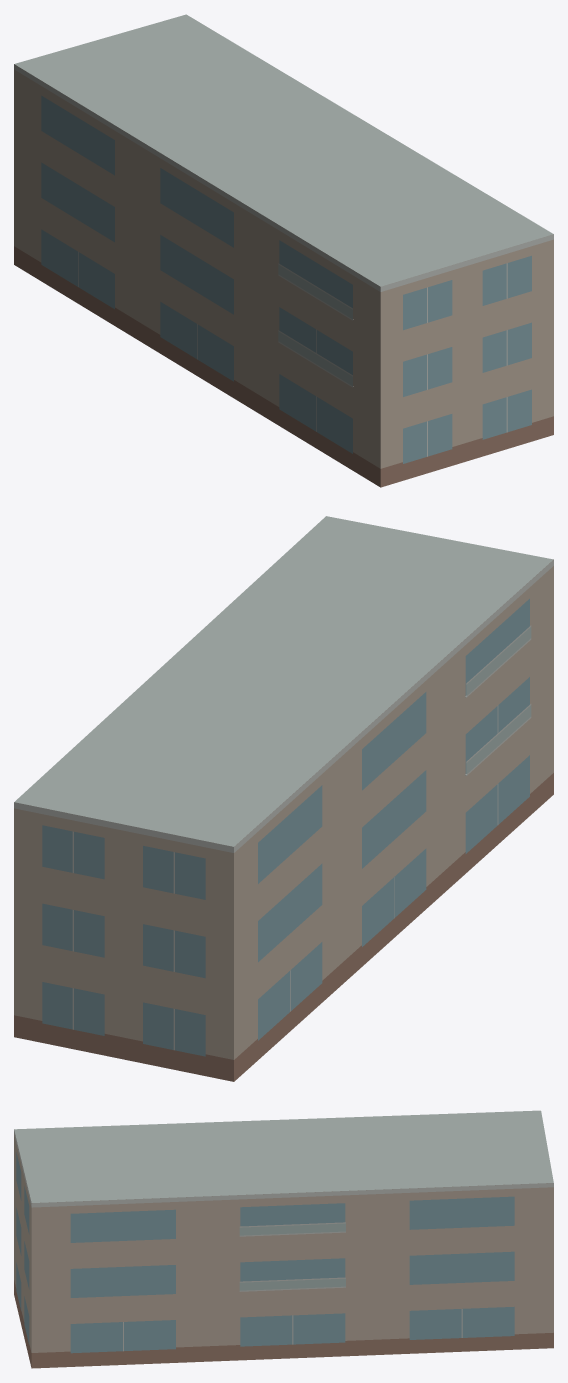
File: survey-upis-32666436.glb
3 views of the same model, one above another, from view 1: azimuth 30°, elevation 25°; view 2: azimuth 150°, elevation 25°; view 3: azimuth 270°, elevation 25° (orthographic). The views are drawn at different scales.
Parts seen in each view (by area): view 1: survey-upis-32666436.tmp; view 2: survey-upis-32666436.tmp; view 3: survey-upis-32666436.tmp.
Part boxes in pixels (x1,y1,x2,y2): survey-upis-32666436.tmp: (14, 14, 553, 487); survey-upis-32666436.tmp: (14, 516, 553, 1081); survey-upis-32666436.tmp: (14, 1110, 553, 1368).
Bounding box in the file's own units: 11.01 × 9.15 × 27.09.
